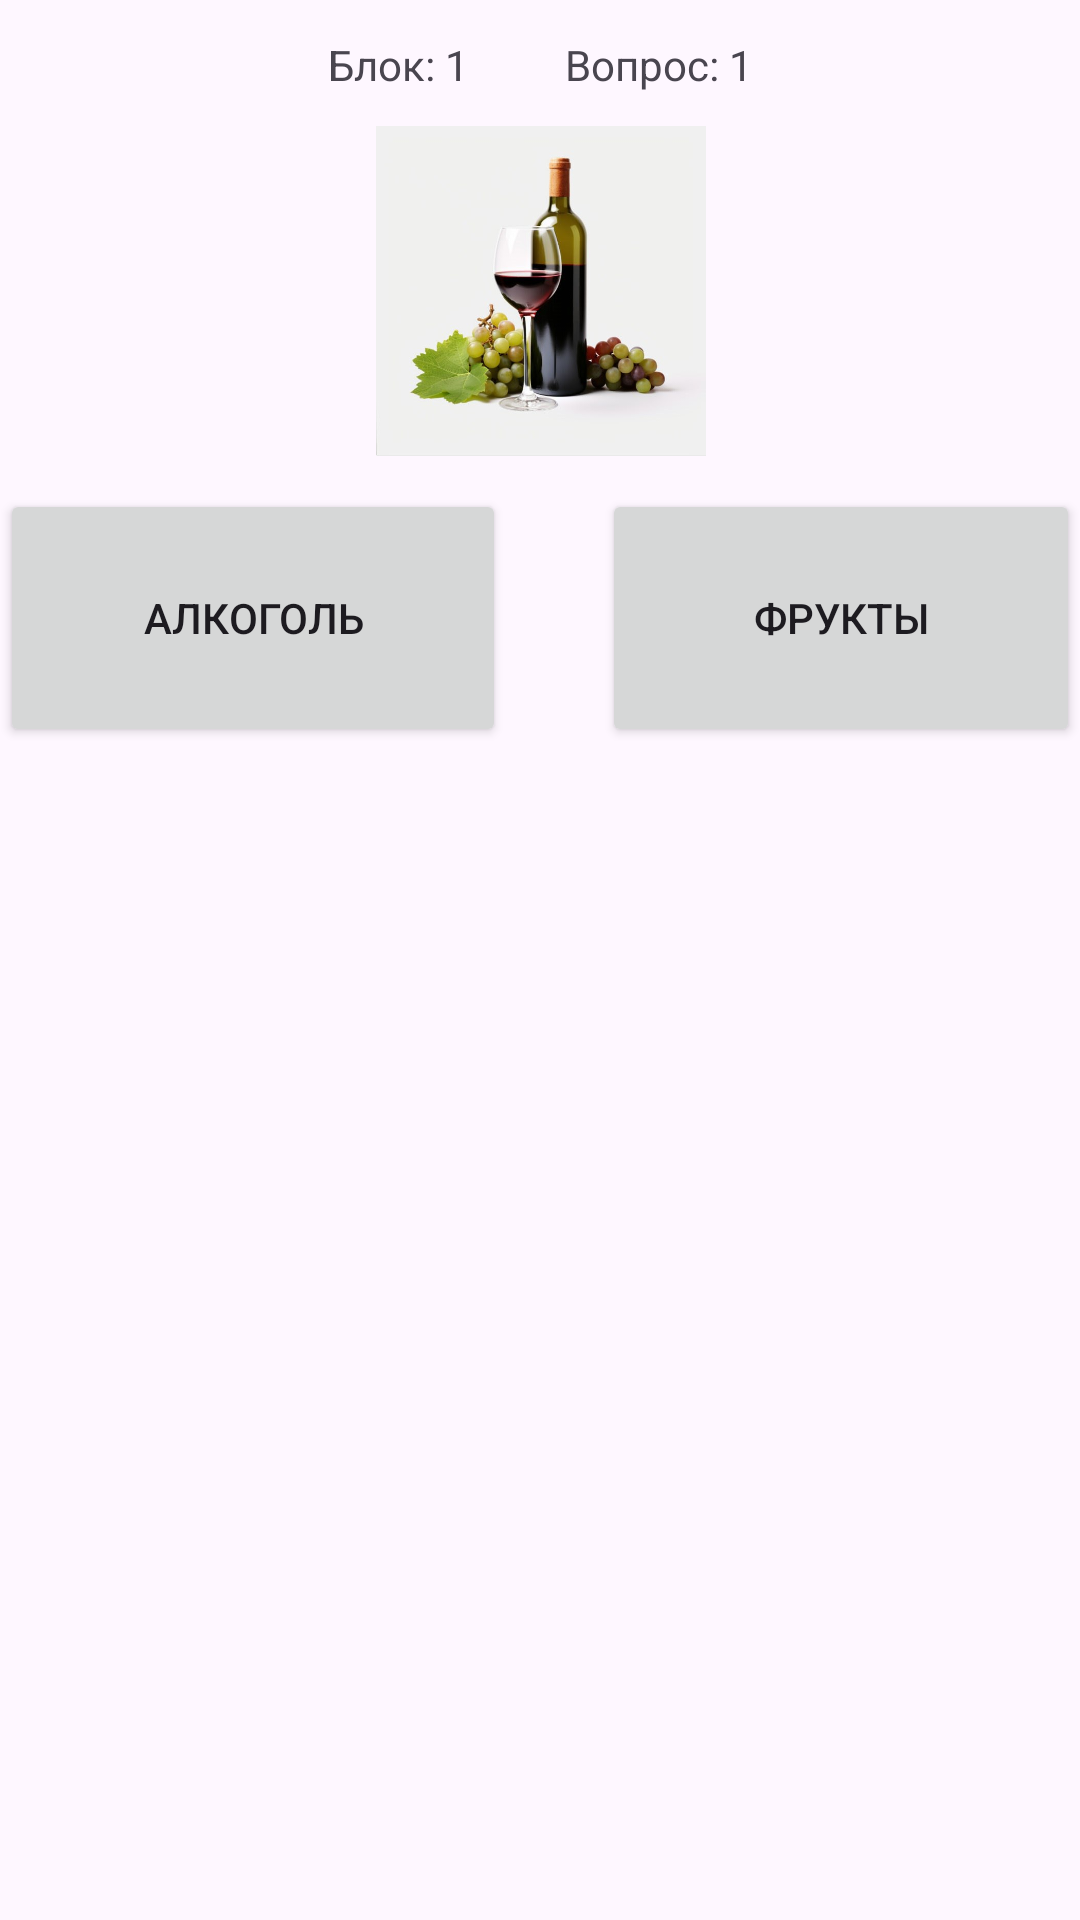

Icons on this 1080x1920 Android screen, each with the point to tap as [x,y]:
alco: [541,291]
